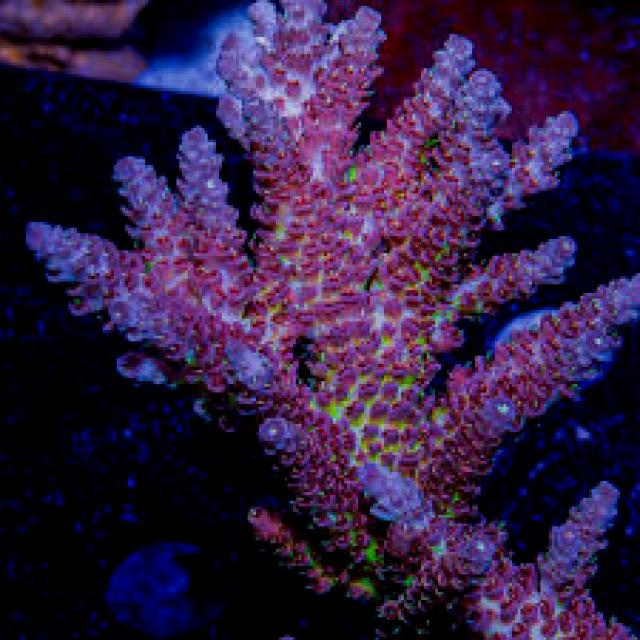Coral: (23, 0, 640, 640)
